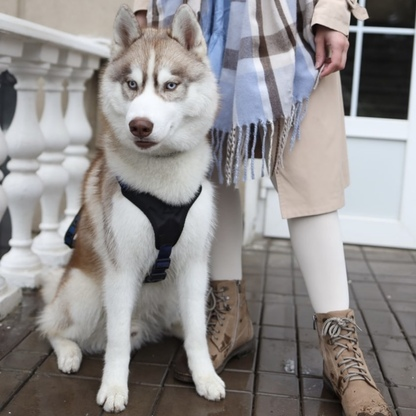husky: (32, 1, 239, 416)
